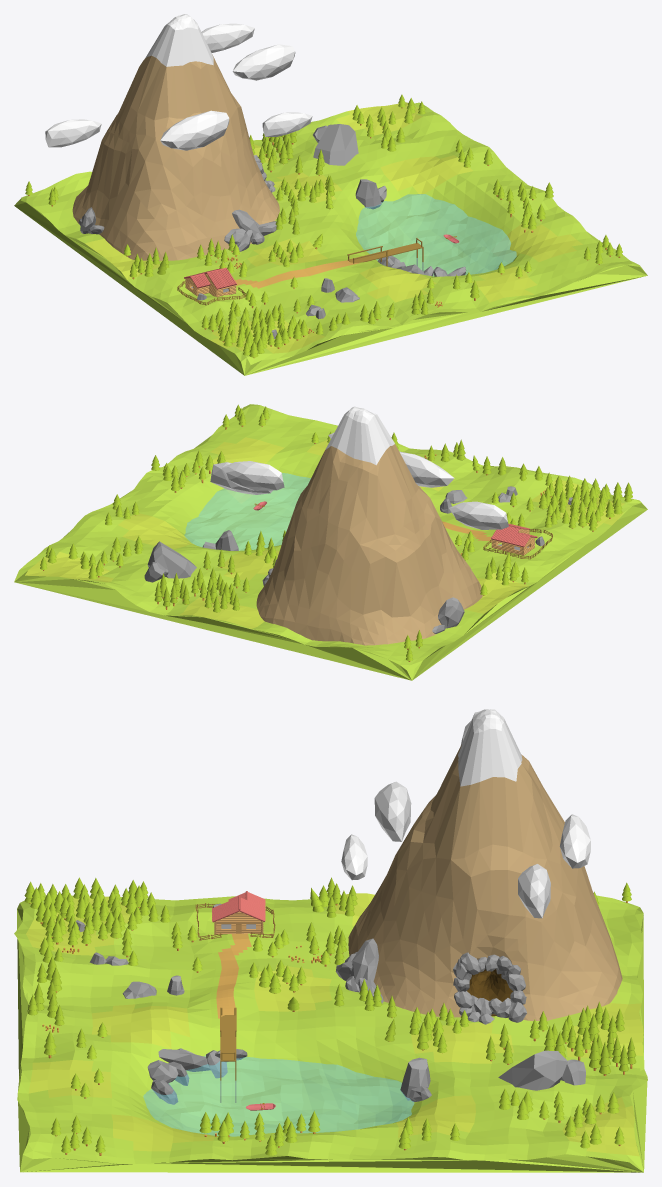
File: scenario.glb
3 renders of one model, top to bottom at view 1: azimuth 30°, elevation 25°; view 2: azimuth 150°, elevation 25°; view 3: azimuth 270°, elevation 25°, orthographic. The views are drawn at different scales.
Visible parts, largest first — view 1: terrain_01, Object_2, terrain_02, Object_11, Object_6, Object_41, Object_30, Object_19, Object_18, Object_12, terrain_03, Object_32 (+6 smaller); view 2: terrain_01, Object_2, terrain_02, Object_11, Object_6, Object_41, Object_30, Object_12, Object_19, Object_18, Object_33, Object_37 (+7 smaller); view 3: terrain_01, Object_2, terrain_02, Object_11, Object_18, Object_41, Object_30, Object_6, Object_19, Object_12, terrain_03, Object_37 (+16 smaller).
Part boxes in pixels (x1,y1,x2,y2): terrain_01: (14,102,647,375); Object_2: (72,54,279,260); terrain_02: (85,102,582,353); Object_11: (356,194,516,276); Object_6: (45,23,312,150); Object_41: (144,261,350,357); Object_30: (352,94,622,263); Object_19: (197,124,386,338); Object_18: (79,155,466,276); Object_12: (145,14,213,66); terrain_03: (235,260,359,288); Object_32: (48,175,420,314); terrain_01: (14,404,647,680); Object_2: (256,444,482,645); terrain_02: (25,437,624,628); Object_11: (184,473,310,550); Object_6: (210,432,508,529); Object_41: (510,463,632,577); Object_30: (40,404,269,579); Object_12: (325,406,394,465); Object_19: (144,486,572,582); Object_18: (262,559,464,633); Object_33: (427,442,528,585); Object_37: (154,573,189,606); terrain_01: (14,895,647,1172); Object_2: (348,744,622,1020); terrain_02: (26,893,643,1156); Object_11: (143,1055,414,1136); Object_18: (147,938,526,1104); Object_41: (24,877,329,962); Object_30: (51,1088,624,1155); Object_6: (341,720,590,918); Object_19: (76,903,585,1101); Object_12: (458,709,522,786); terrain_03: (216,933,251,1018); Object_37: (589,1030,636,1074).
Size of the model in its own units: 95.83 by 50.11 by 90.33.
